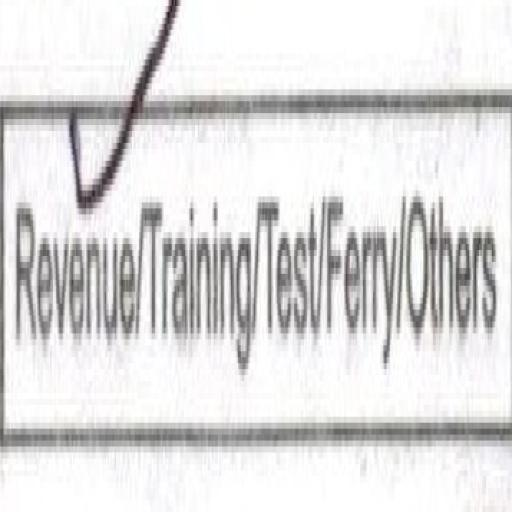check: (0, 0, 146, 465)
